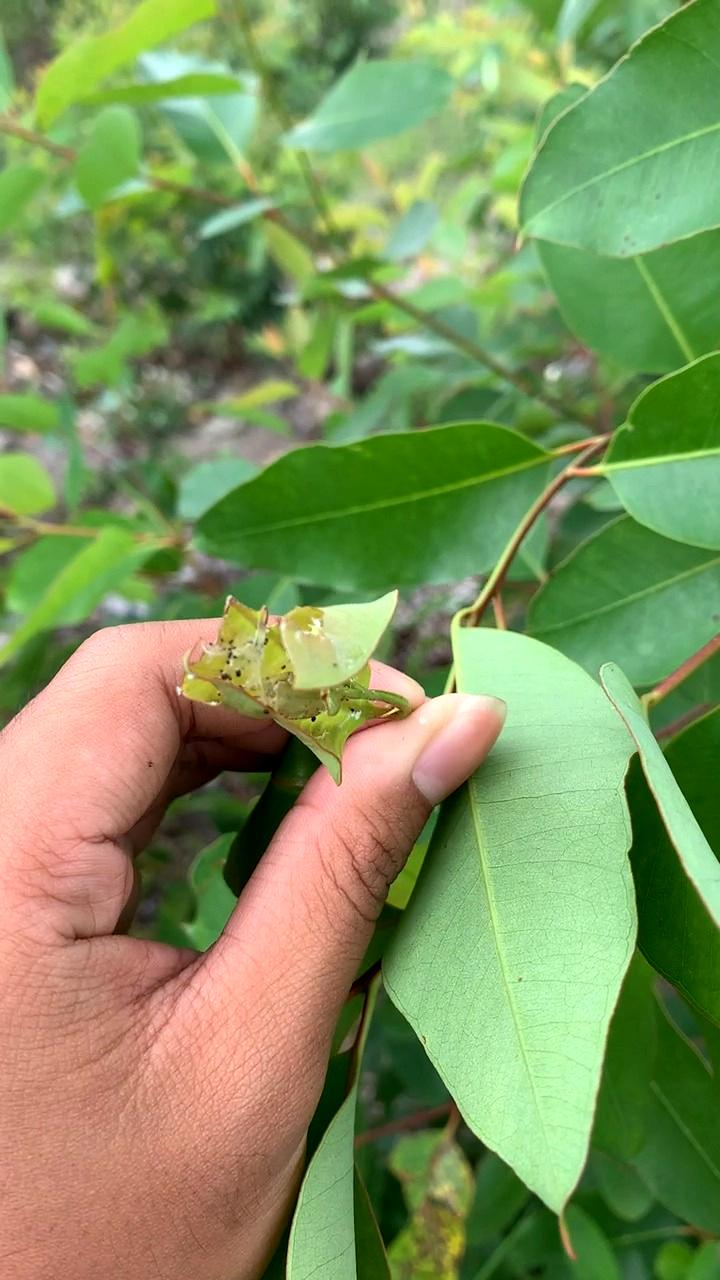Leaf Roller - Leaf: (171, 558, 418, 803)
